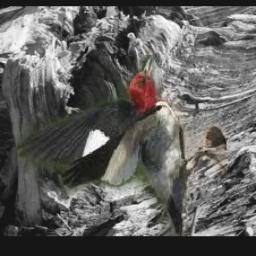Woodpecker: (18, 55, 228, 236)
